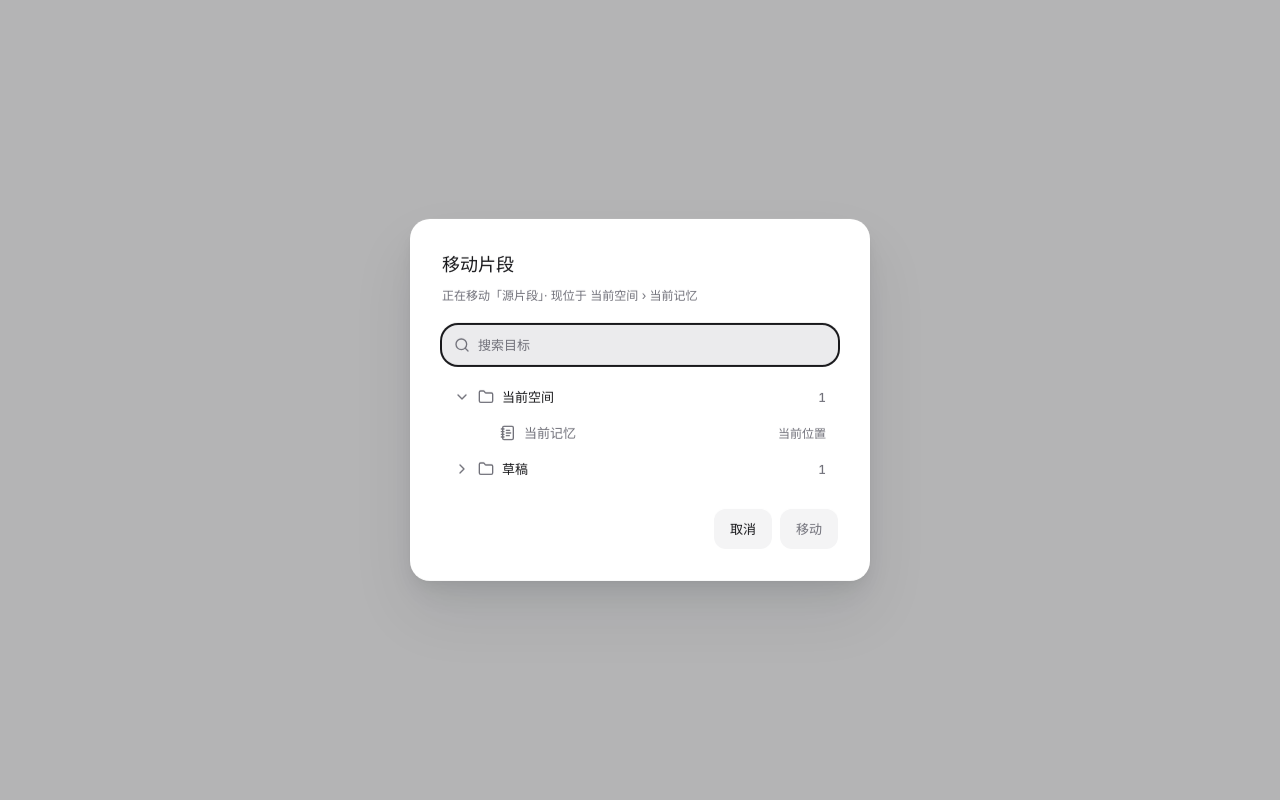
Test case: EntityMoveDialog › disables confirm when search hides the selected target
Step 1. Click the button "草稿 1" → (462, 469), box top-left (442, 453), bottom-right (838, 485)
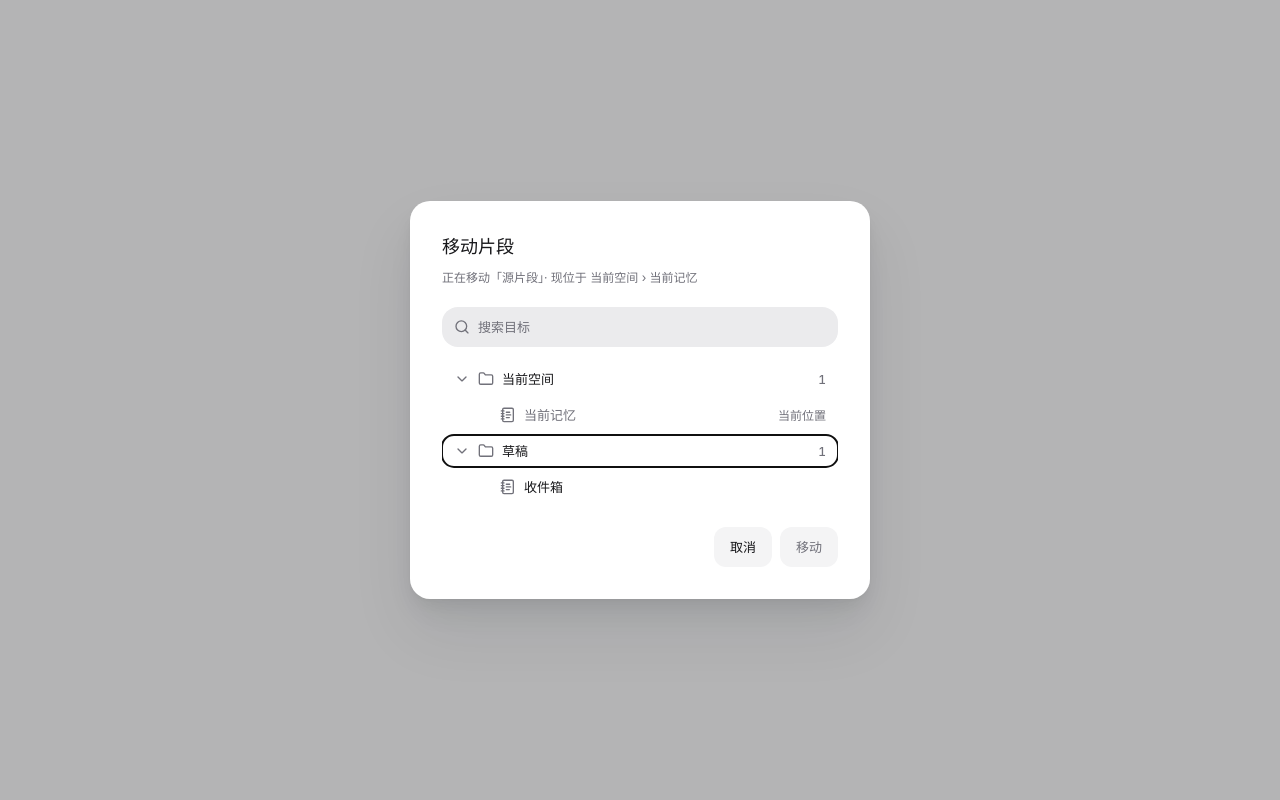
Step 2. Click the button "收件箱" → (544, 487), box top-left (442, 471), bottom-right (838, 503)
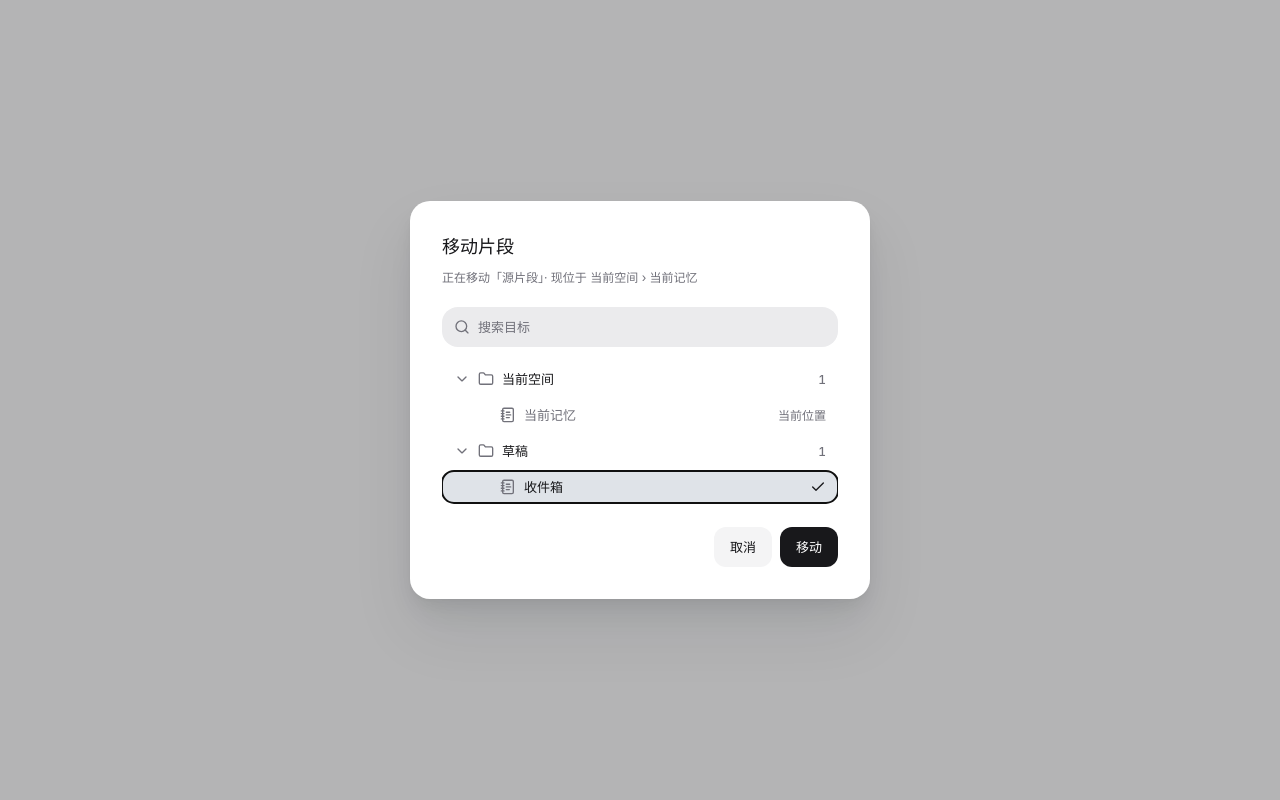
Now the button "移动" is enabled, box top-left (780, 527), bottom-right (838, 567)
Step 3. Type "当前记忆" into the field named "搜索移动目标" → (640, 327), box top-left (442, 307), bottom-right (838, 347)
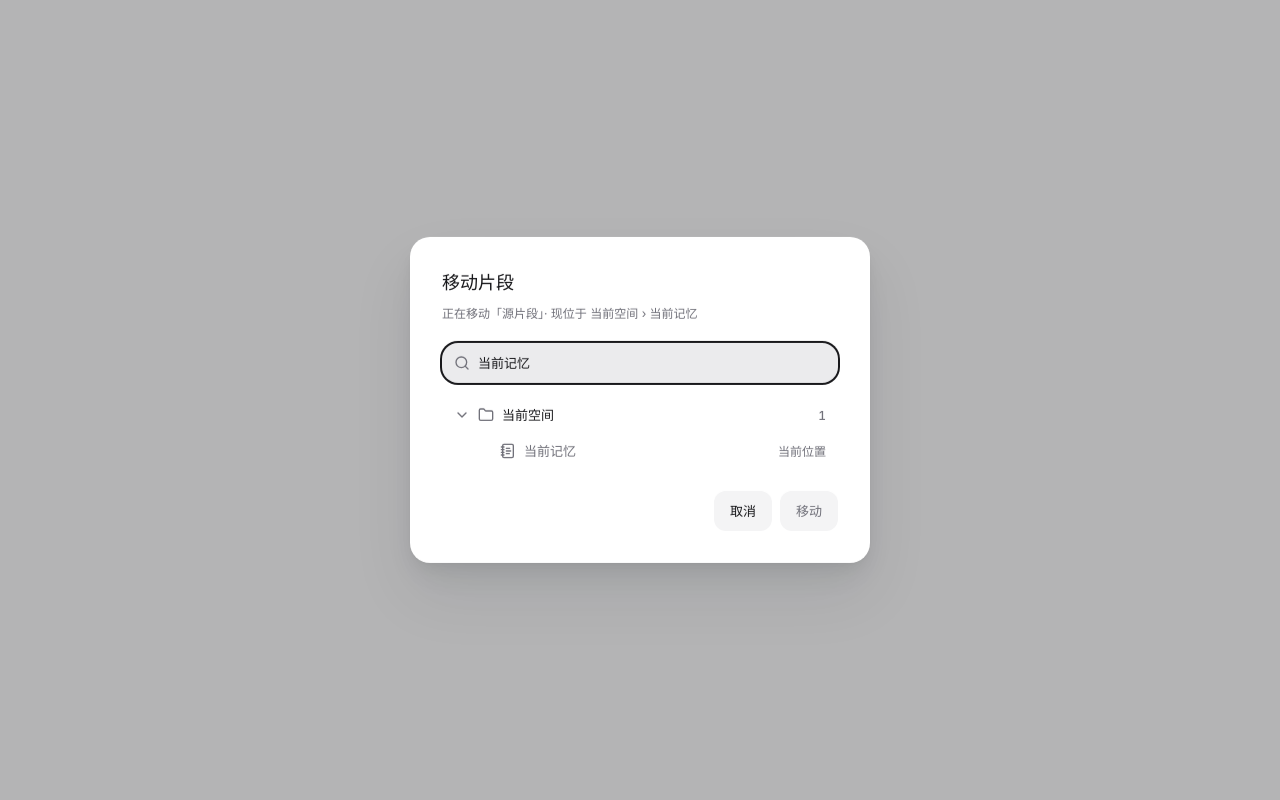
Now the button "移动" is disabled, box top-left (780, 491), bottom-right (838, 531)
